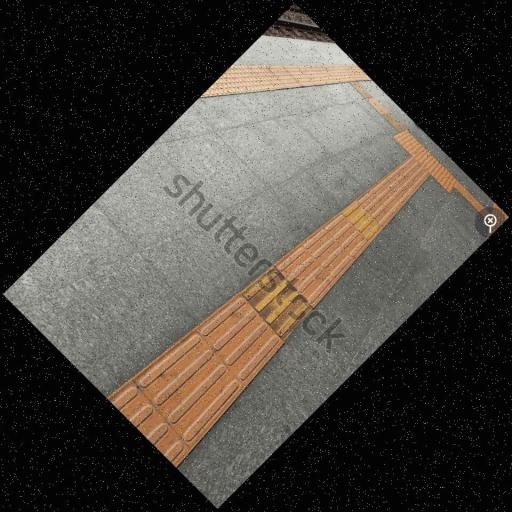line: (135, 331, 244, 447), (197, 294, 284, 383), (107, 378, 193, 468), (243, 266, 314, 341), (276, 244, 336, 306), (301, 227, 355, 280), (322, 212, 370, 260), (341, 199, 383, 242)
